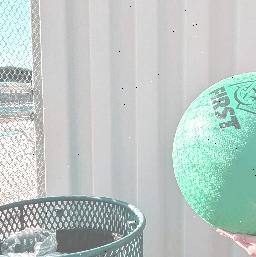algae: (168, 68, 256, 234)
